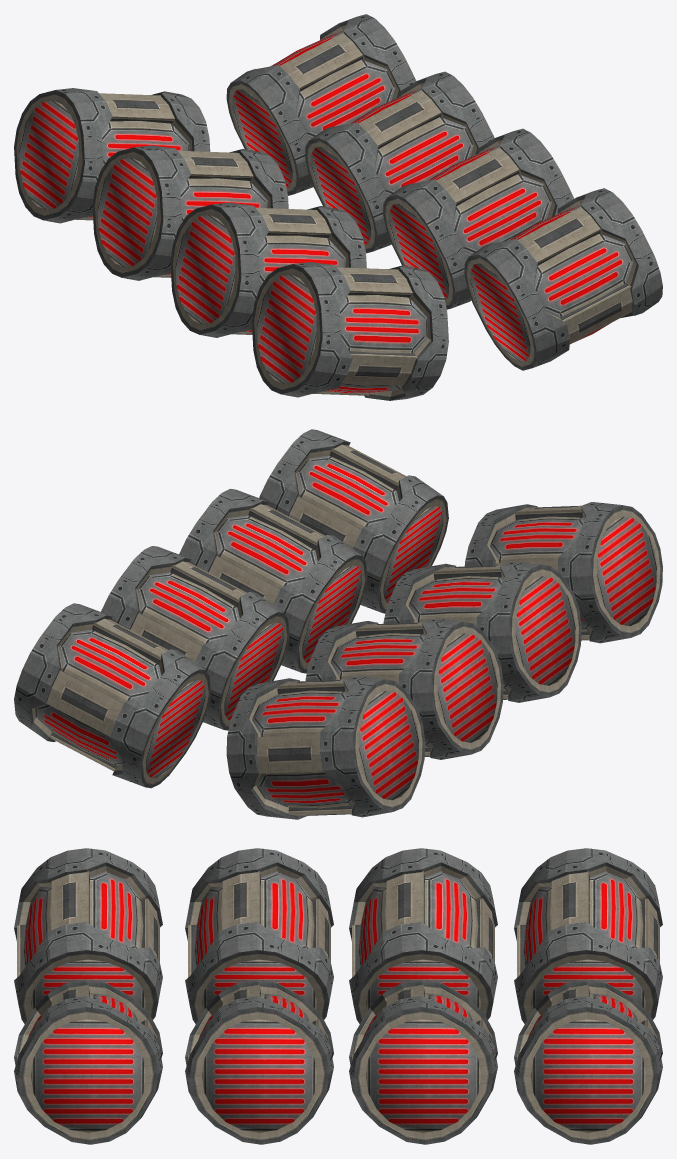
File: sifi_barells.fbx
3 views of the same model, one above another, from view 1: azimuth 30°, elevation 25°; view 2: azimuth 150°, elevation 25°; view 3: azimuth 270°, elevation 25° (orthographic). The views are drawn at different scales.
Visible parts, largest first — view 1: barrels; view 2: barrels; view 3: barrels.
Part boxes in pixels (x1=…): barrels: x1=14, y1=14, x2=662, y2=400; barrels: x1=14, y1=429, x2=662, y2=819; barrels: x1=14, y1=848, x2=662, y2=1144.
Bounding box in the file's own units: 120 × 47.2 × 174.
1 material, 1 textured.
